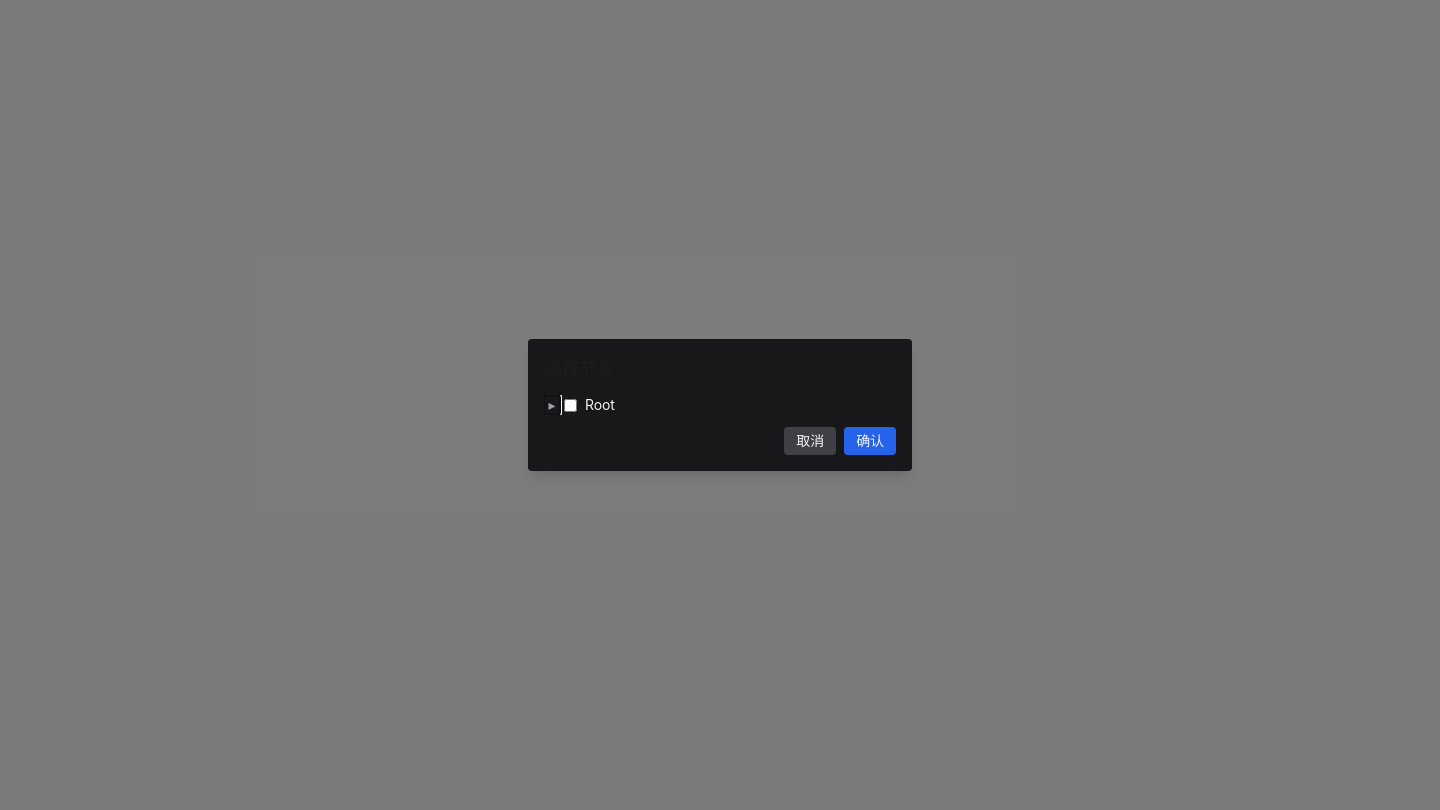
Test: TreeTableDialog › renders nested children when expanded
Click the button "▸" at (552, 405), box [544,395,560,415]
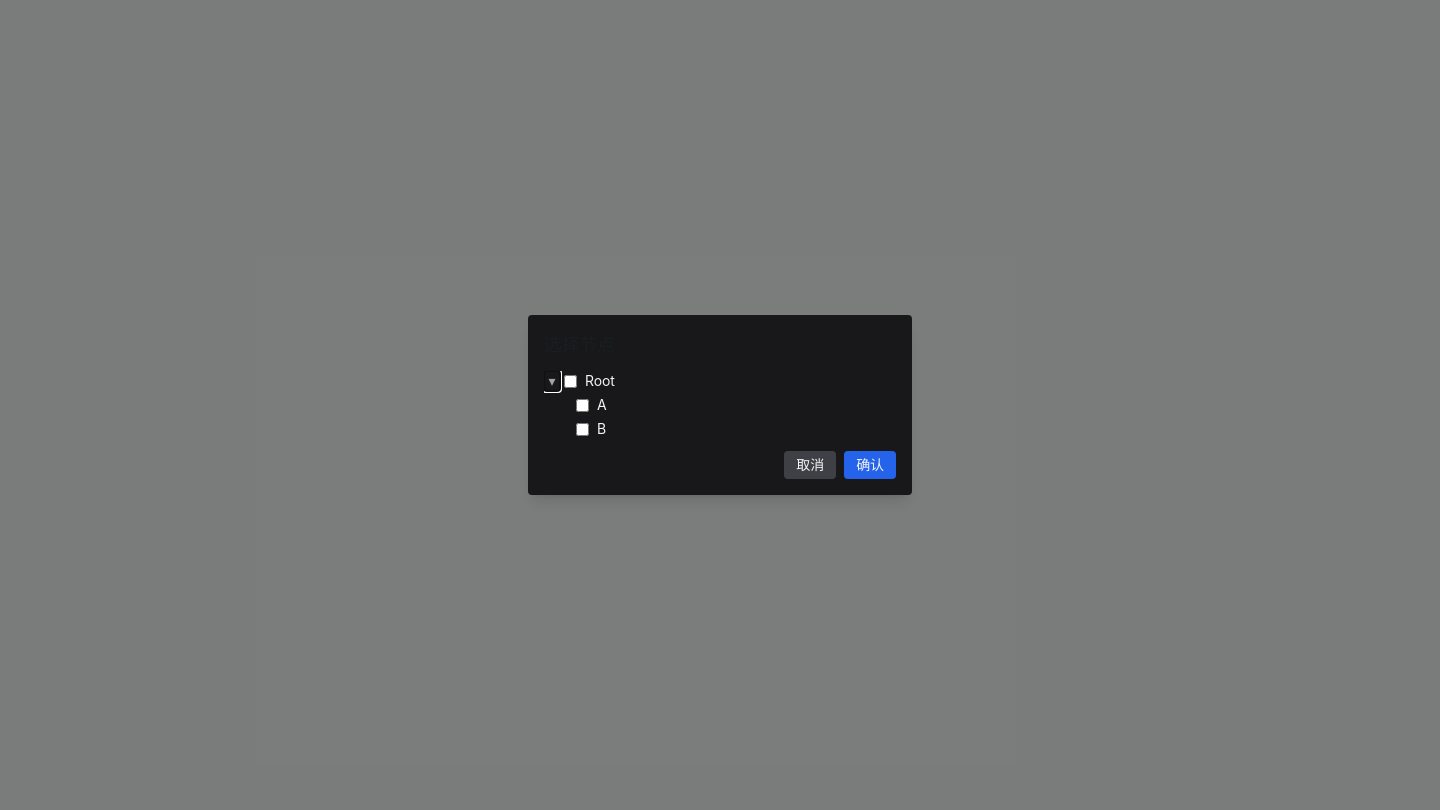
Check: the text "A" is shown, box [597,395,607,415]
Check: the text "B" is shown, box [597,419,606,439]
